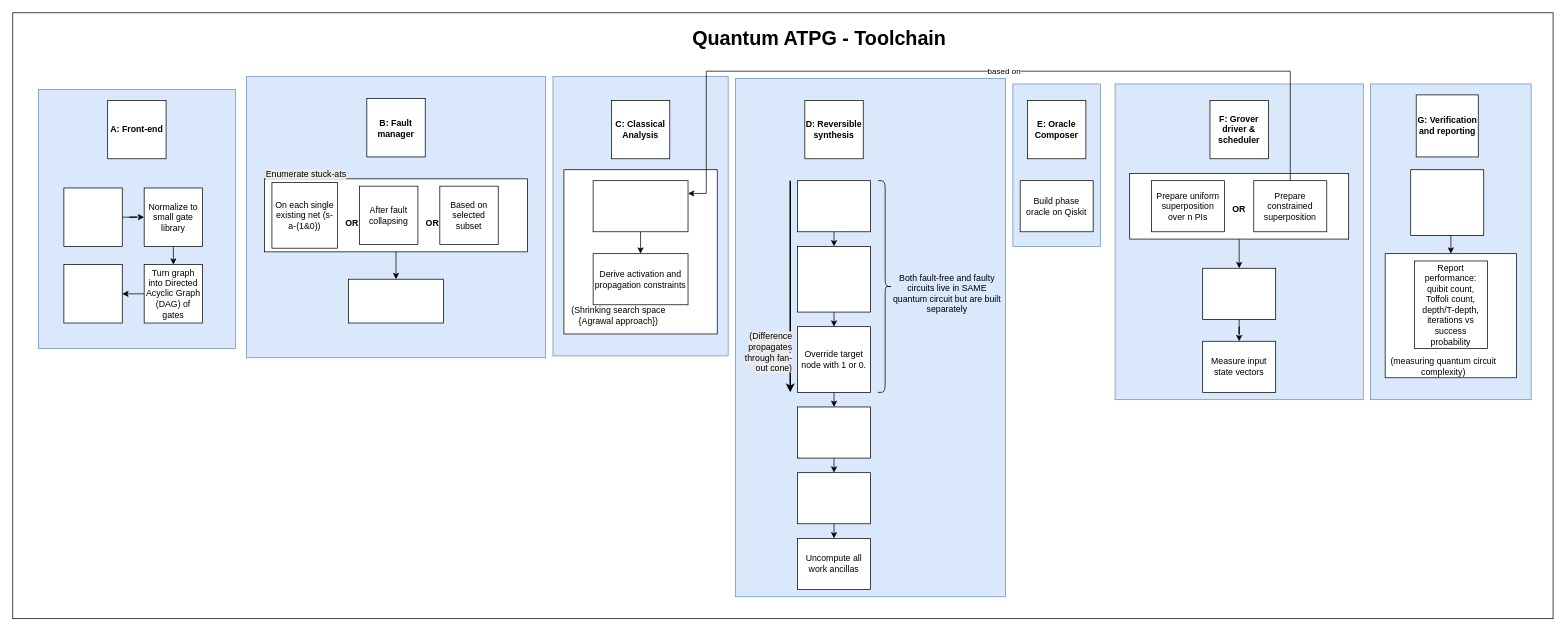
Image size: 1566x631. Some labels were removed from this diagram. Each missing label, with the centre of its shape:
"Apply needed Grover iterations" goes at point 1239,293.
"Build circuit graph" goes at point 92,293.
"Build faulty circuit by replicating logic up to target node." goes at point 834,279.
"Compare good vs faulty by XORing output" goes at point 834,432.
"Compute controllability and observability" goes at point 640,206.
"For each target node D, we define two fan-out comput nodes: good vs faulty" goes at point 395,300.
"Parse HDL" goes at point 92,216.
"Phase flip on detected inputs" goes at point 834,498.
"Synthesize good circuit reversibly" goes at point 834,206.
"Verify that proposed candidates are correct (back to classical verification)" goes at point 1447,202.
